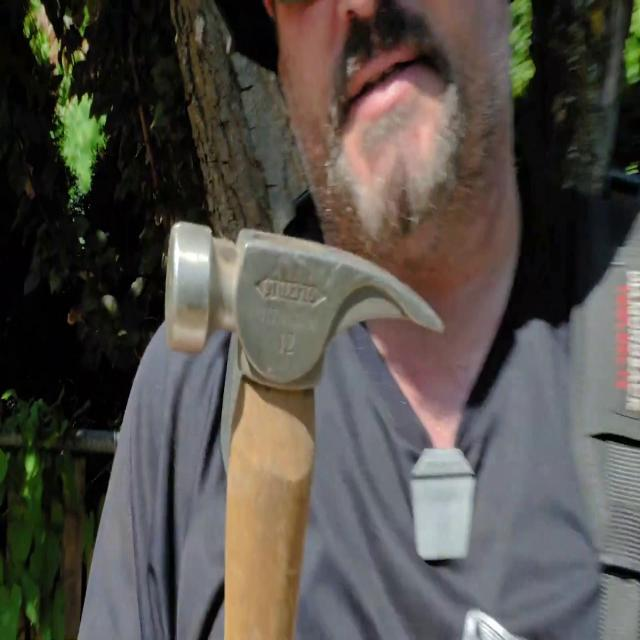hammer: (166, 222, 444, 640)
